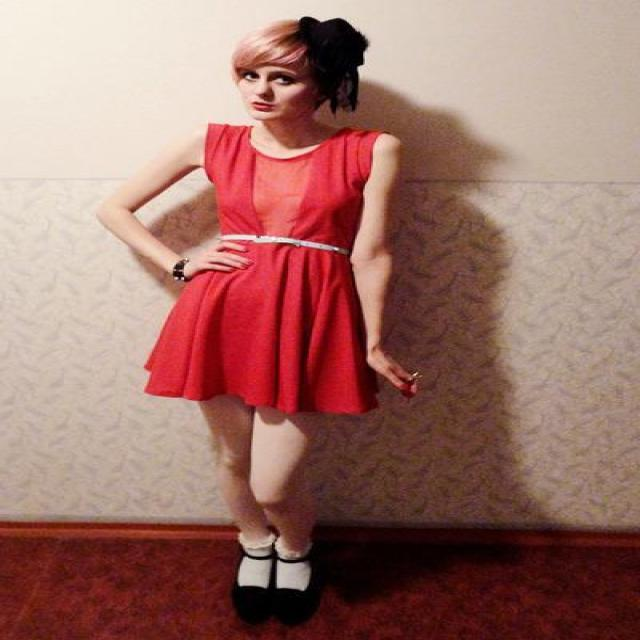dress: (144, 124, 392, 429)
shoe: (232, 589, 318, 627)
